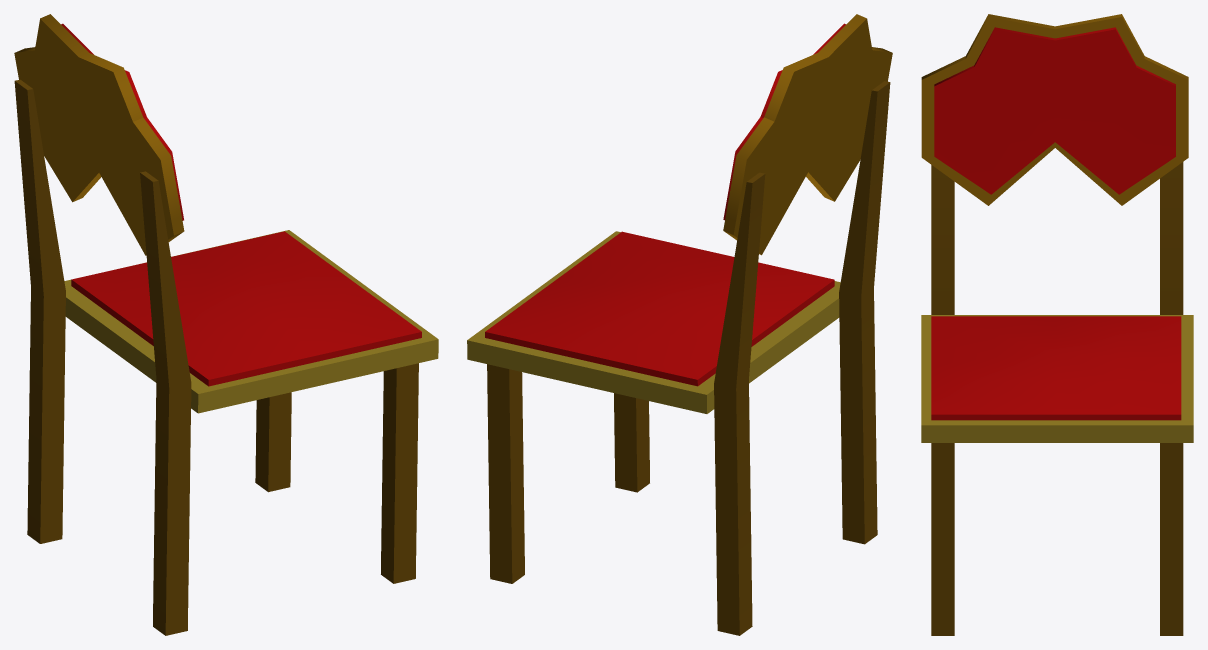
Rendered from chair variant.fbx.
The picture shows the model from 3 angles, left to right: view 1: azimuth 30°, elevation 25°; view 2: azimuth 150°, elevation 25°; view 3: azimuth 270°, elevation 25°; orthographic projection. The views are drawn at different scales.
Visible parts, largest first — view 1: polySurface12; view 2: polySurface12; view 3: polySurface12.
Boxes of the visible parts, left/top/right/bottom form: polySurface12: left=14, top=14, right=438, bottom=635; polySurface12: left=467, top=14, right=892, bottom=635; polySurface12: left=921, top=14, right=1193, bottom=635.
Size of the model in its own units: 6.82 by 12.48 by 6.13.
